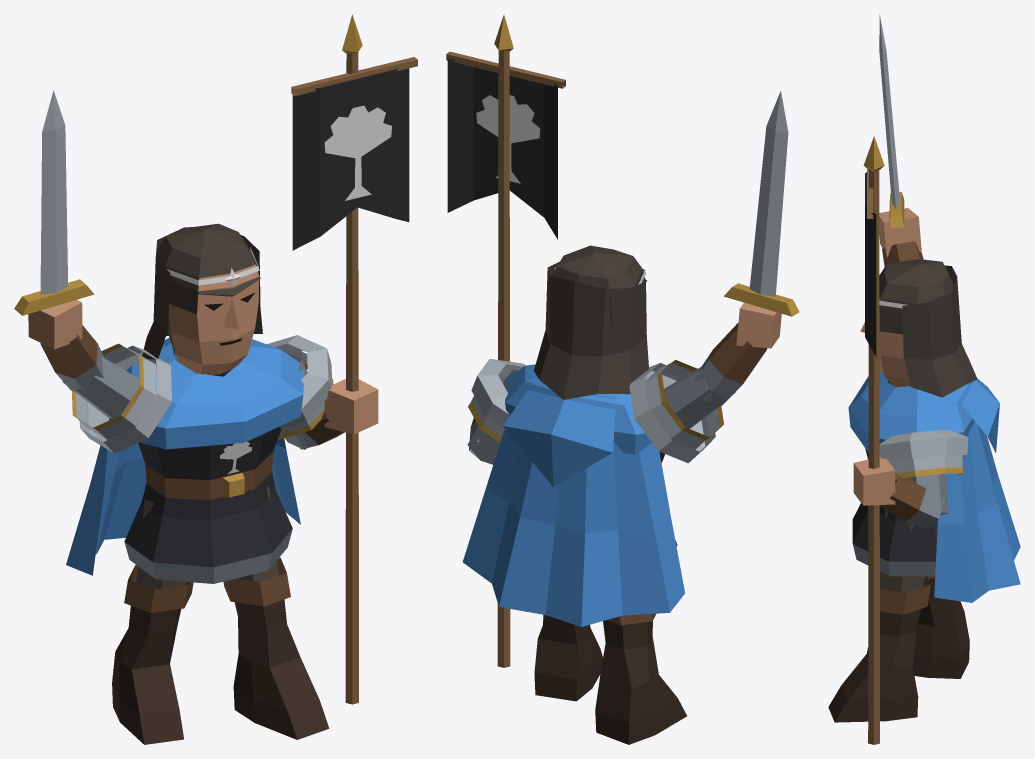
The model's file is aragorn-2-gear.glb.
3 views of the same model, side by side, from view 1: azimuth 30°, elevation 25°; view 2: azimuth 150°, elevation 25°; view 3: azimuth 270°, elevation 25° (orthographic). The views are drawn at different scales.
Parts seen in each view (by area): view 1: aragorn-2-gear; view 2: aragorn-2-gear; view 3: aragorn-2-gear.
Boxes of the visible parts, <box> form: aragorn-2-gear: <box>14,14,417,744</box>; aragorn-2-gear: <box>446,14,799,744</box>; aragorn-2-gear: <box>828,14,1020,744</box>.
Bounding box in the file's own units: 1.18 × 2.03 × 0.5838.
